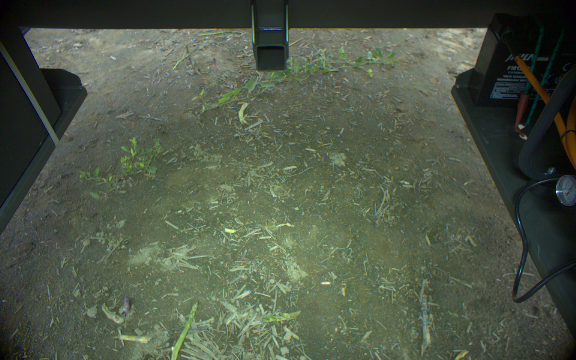aspa: (168, 300, 199, 360), (262, 309, 301, 322), (100, 303, 123, 325), (121, 295, 129, 316)
